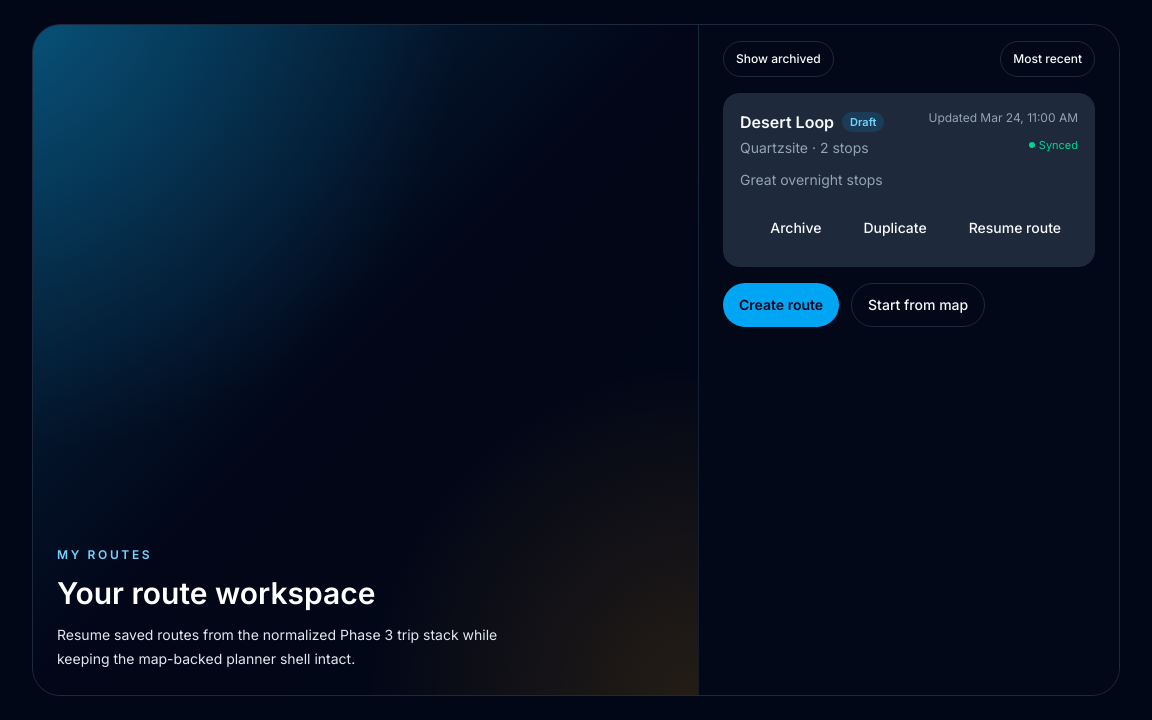
Scenario: MyRoutesScreen › Route cards (Story 3.1) › toggles the archive filter and shows archived trips with distinct treatment
Expected: the text "Old Desert Run" is not shown
Click the button with test id "archive-filter-toggle".
click(778, 59)  # box x1=723 y1=41 x2=834 y2=77
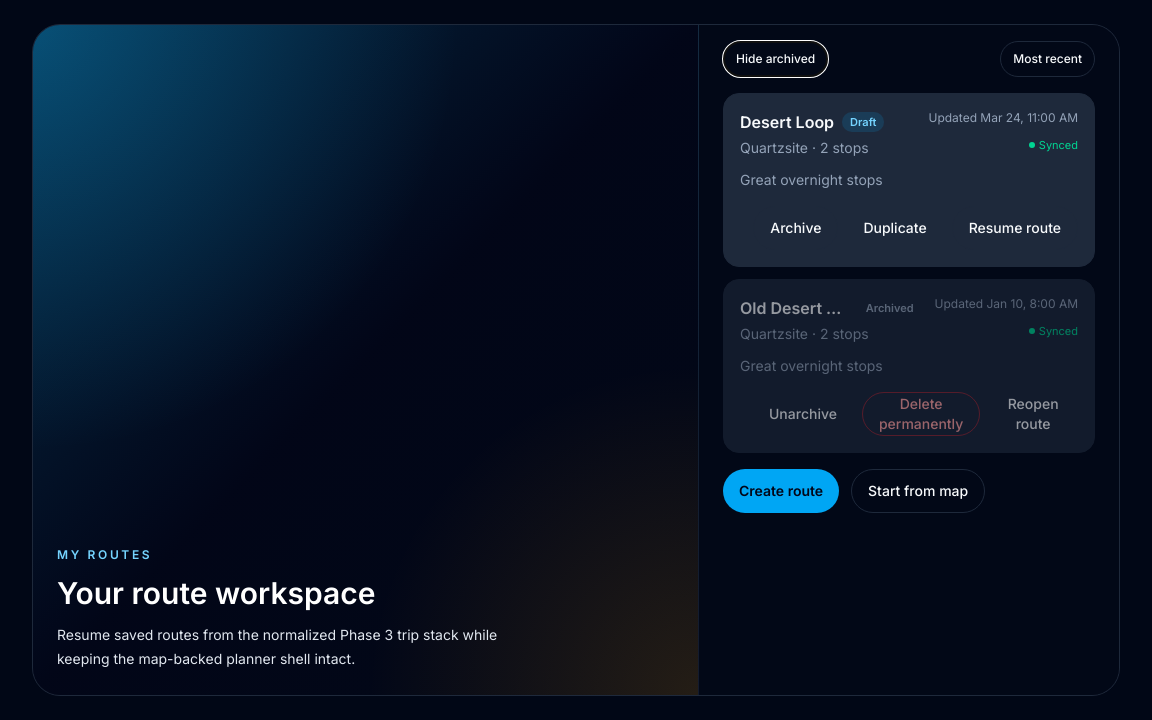
Expected: the heading "Old Desert Run" is shown, x1=740 y1=296 x2=849 y2=320
Expected: the button with test id "archive-filter-toggle" reads "Hide archived", x1=723 y1=41 x2=828 y2=77
Expected: the number of elements with test id "trip-status-badge" is 2, x1=842 y1=112 x2=884 y2=132; x1=857 y1=297 x2=923 y2=319
